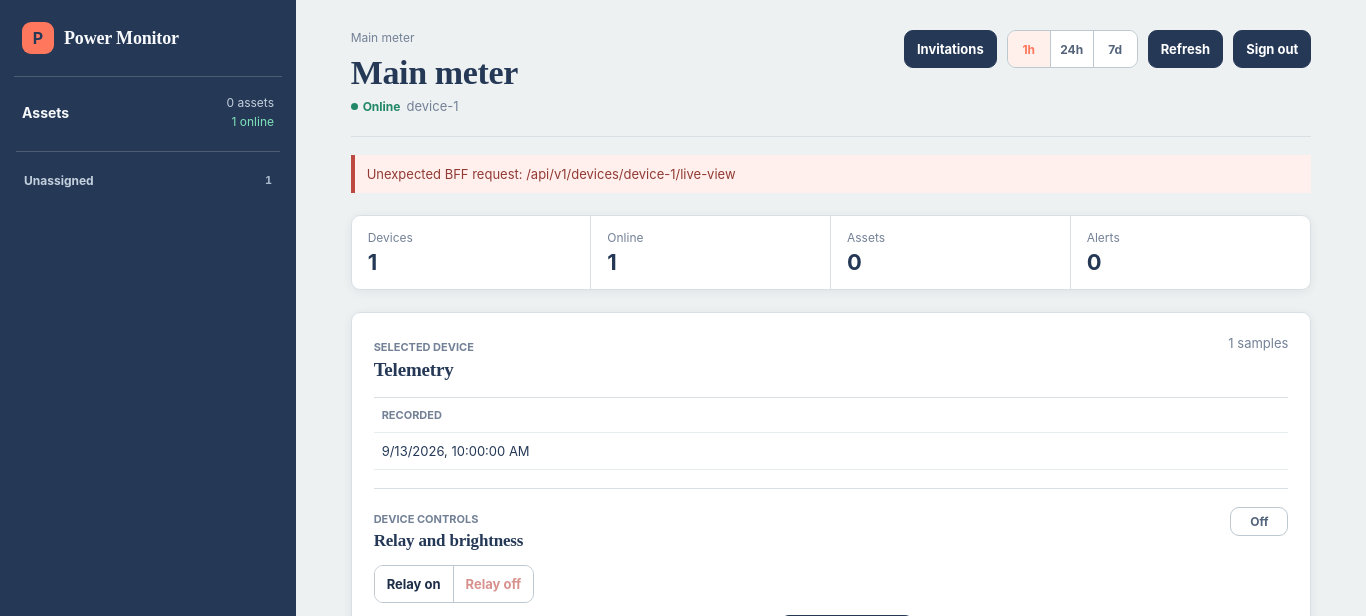
PowerMonitor refresh ownership › does not let an older manual refresh overwrite a terminal-command refresh
Expected: the button "Relay on" is shown, [375,566,454,602]
Click the button with aria-label "Refresh Power Monitor": point(1185, 49) [1148,30,1223,68]
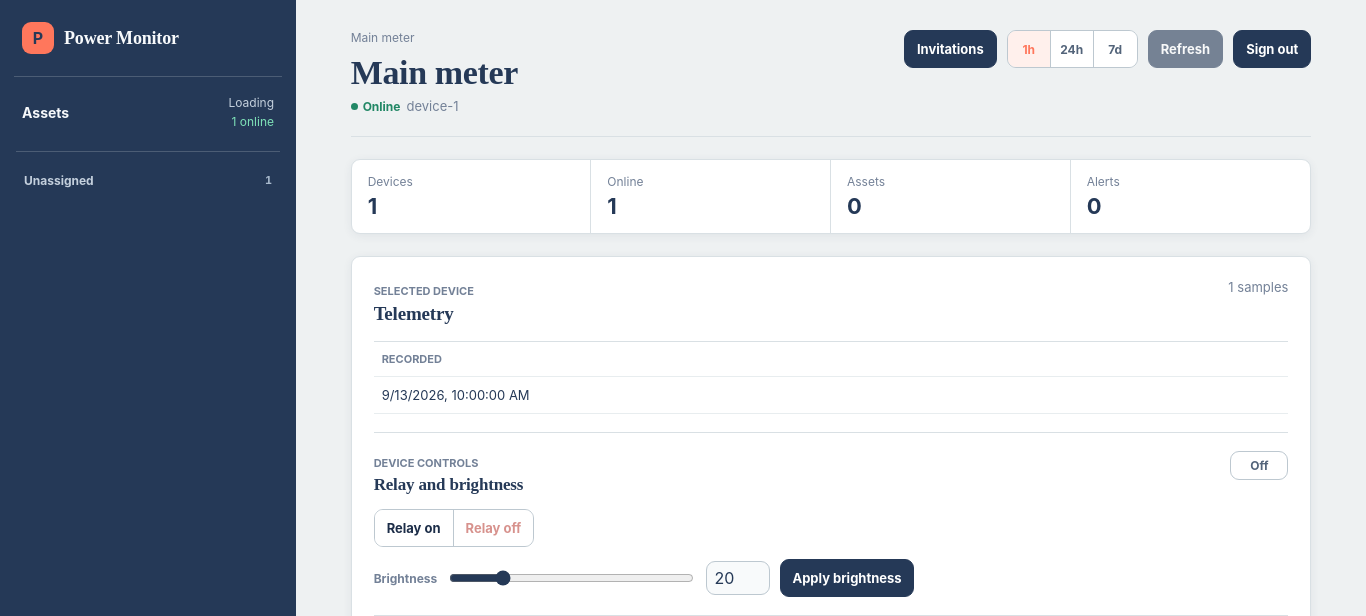
Click the button "Relay on": point(414, 528) [375,510,454,546]
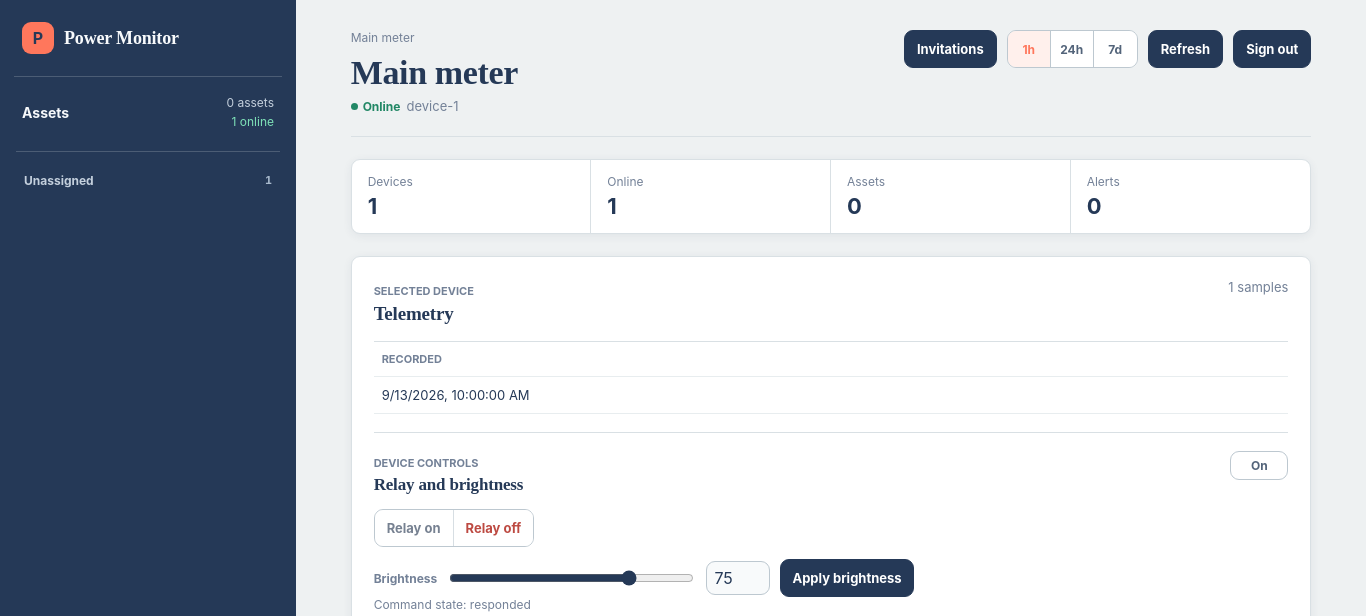
Now the button "Relay on" is disabled, box [375,510,454,546]
Now the number field named "Brightness value" holds "75", box [706,561,770,595]
